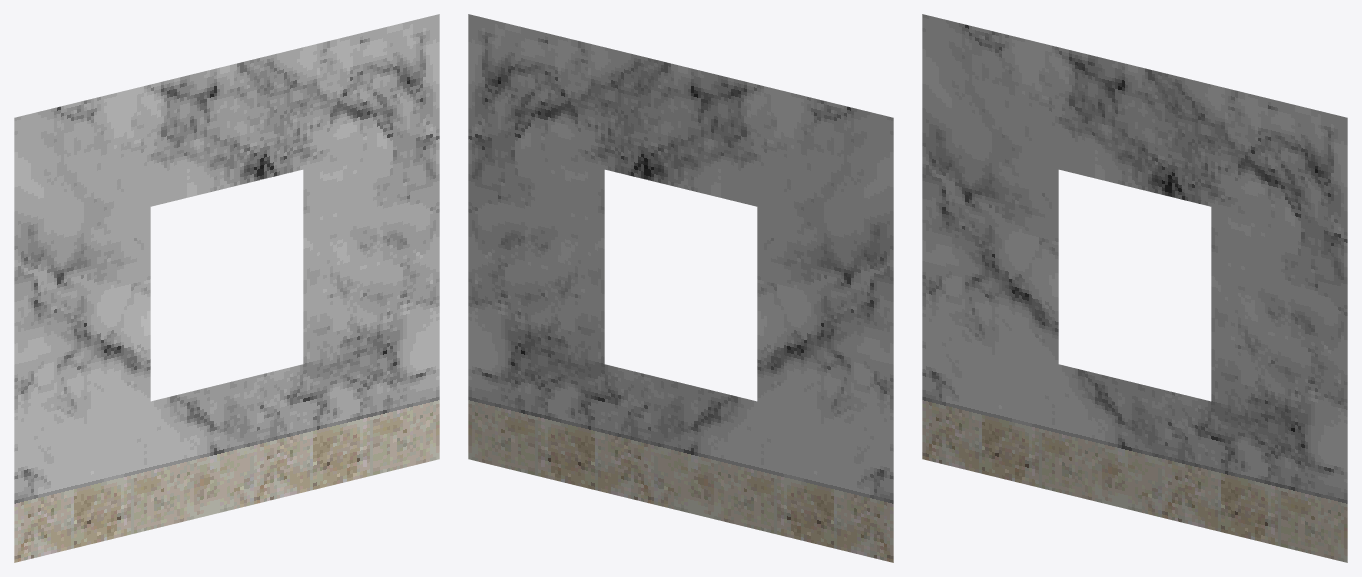
Rendered from wallWindowMarble.glb.
3 renders of one model, left to right at view 1: azimuth 30°, elevation 25°; view 2: azimuth 150°, elevation 25°; view 3: azimuth 330°, elevation 25°, orthographic.
Visible parts, largest first — view 1: wallWindowMarble; view 2: wallWindowMarble; view 3: wallWindowMarble.
Boxes of the visible parts, x1=… form: wallWindowMarble: x1=14, y1=14, x2=439, y2=562; wallWindowMarble: x1=468, y1=14, x2=893, y2=562; wallWindowMarble: x1=922, y1=14, x2=1347, y2=562.
Size of the model in its own units: 4 by 4 by 1.19e-07.
1 material, 1 textured.
